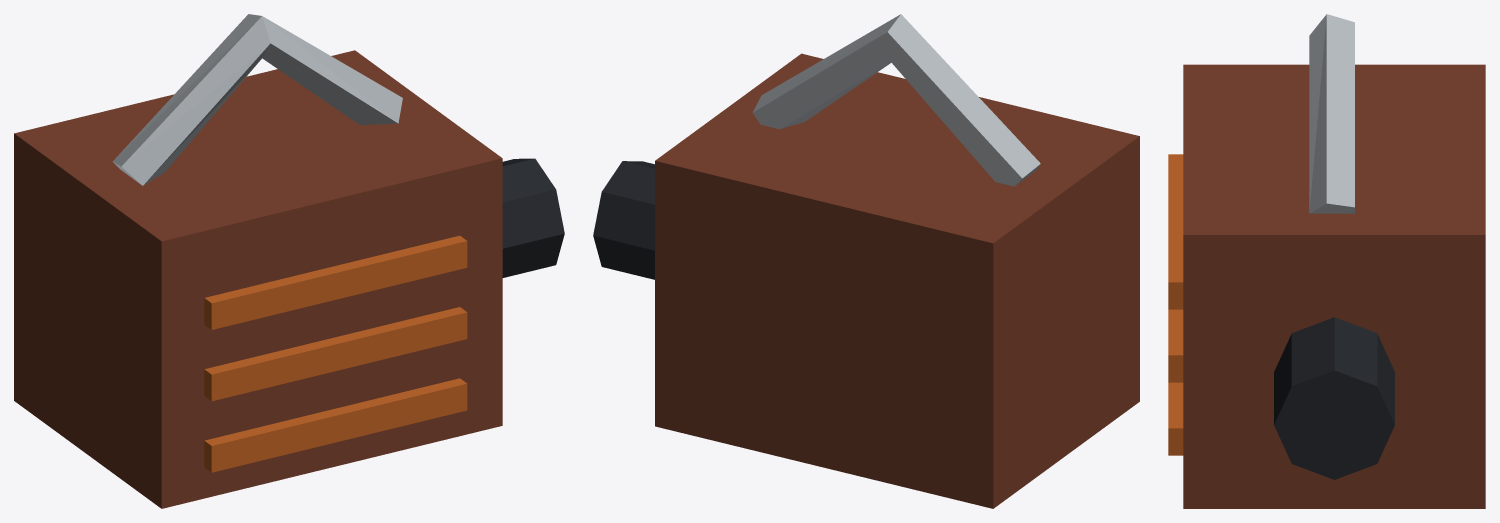
File: heat-generator.lod.glb
The picture shows the model from 3 angles, left to right: view 1: azimuth 30°, elevation 25°; view 2: azimuth 150°, elevation 25°; view 3: azimuth 270°, elevation 25°; orthographic projection. The views are drawn at different scales.
Parts seen in each view (by area): view 1: m; view 2: m; view 3: m.
Boxes of the visible parts, left/top/right/bottom form: m: left=14, top=14, right=564, bottom=508; m: left=593, top=14, right=1139, bottom=508; m: left=1168, top=14, right=1485, bottom=508.
Size of the model in its own units: 0.1 by 0.0855 by 0.06.
